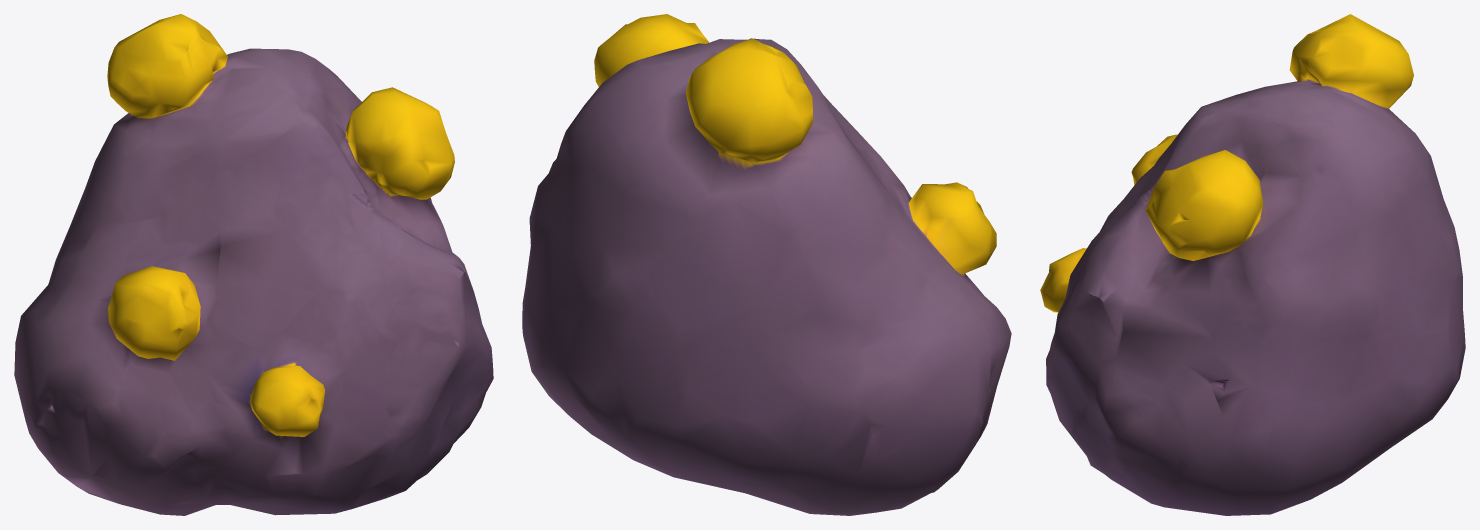
The model's file is kaya_lod1.glb.
3 views of the same model, side by side, from view 1: azimuth 30°, elevation 25°; view 2: azimuth 150°, elevation 25°; view 3: azimuth 270°, elevation 25° (orthographic). The views are drawn at different scales.
Parts seen in each view (by area): view 1: kaya_lod1; view 2: kaya_lod1; view 3: kaya_lod1.
Boxes of the visible parts, x1,y1,x2,y2 form: kaya_lod1: [14, 14, 493, 515]; kaya_lod1: [522, 14, 1011, 515]; kaya_lod1: [1040, 14, 1465, 515].
Size of the model in its own units: 1.32 by 1.3 by 1.17.
1 material, 1 textured.
